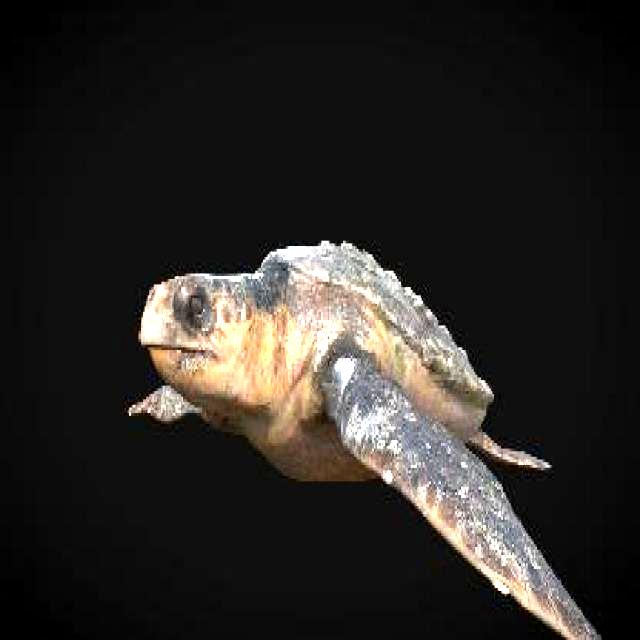Sea turtle: (123, 229, 604, 640)
